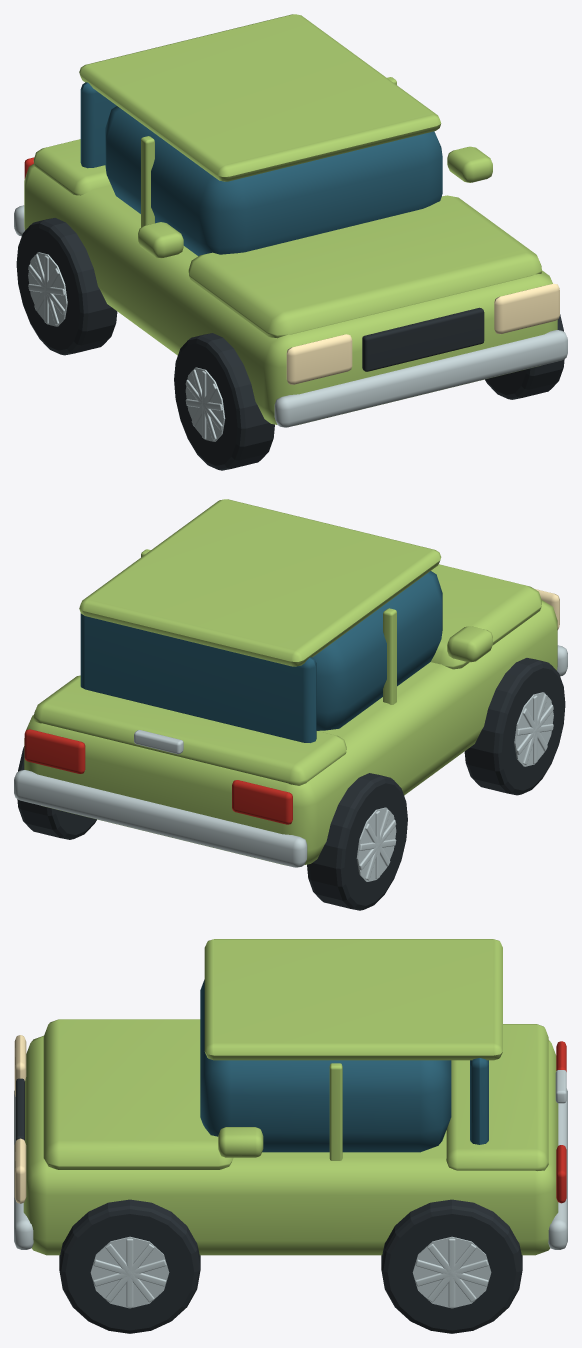
Rendered from old-town-hatch.glb.
3 renders of one model, top to bottom at view 1: azimuth 30°, elevation 25°; view 2: azimuth 150°, elevation 25°; view 3: azimuth 270°, elevation 25°, orthographic. The views are drawn at different scales.
Parts seen in each view (by area): view 1: old-town-hatch paint, Midnight blue glass.004, TireMeshFL, TireMeshRL, Satin alloy.004, Ivory headlights.004, Rubber.004, TireMeshFR; view 2: old-town-hatch paint, Midnight blue glass.004, Satin alloy.004, TireMeshRL, TireMeshFL, Red tail lamps.004, TireMeshRR; view 3: old-town-hatch paint, Midnight blue glass.004, TireMeshFR, TireMeshRR, Satin alloy.004, Ivory headlights.004, Red tail lamps.004, Rubber.004.
Boxes of the visible parts, bbox=[...] form: old-town-hatch paint: bbox=[24, 14, 557, 425]; Midnight blue glass.004: bbox=[80, 82, 442, 256]; TireMeshFL: bbox=[174, 333, 274, 470]; TireMeshRL: bbox=[16, 218, 117, 355]; Satin alloy.004: bbox=[14, 205, 567, 427]; Ivory headlights.004: bbox=[286, 283, 559, 384]; Rubber.004: bbox=[362, 307, 484, 371]; TireMeshFR: bbox=[485, 314, 564, 399]; old-town-hatch paint: bbox=[24, 499, 557, 865]; Midnight blue glass.004: bbox=[80, 571, 442, 742]; Satin alloy.004: bbox=[14, 645, 567, 867]; TireMeshRL: bbox=[307, 773, 407, 910]; TireMeshFL: bbox=[464, 658, 565, 795]; Red tail lamps.004: bbox=[24, 729, 292, 824]; TireMeshRR: bbox=[17, 746, 96, 839]; old-town-hatch paint: bbox=[23, 939, 558, 1255]; Midnight blue glass.004: bbox=[200, 979, 488, 1152]; TireMeshFR: bbox=[59, 1199, 200, 1333]; TireMeshRR: bbox=[381, 1199, 522, 1333]; Satin alloy.004: bbox=[14, 1070, 567, 1249]; Ivory headlights.004: bbox=[14, 1035, 26, 1203]; Red tail lamps.004: bbox=[556, 1041, 566, 1203]; Rubber.004: bbox=[16, 1078, 24, 1140].
Size of the model in its own units: 2.55 by 1.85 by 3.53.
